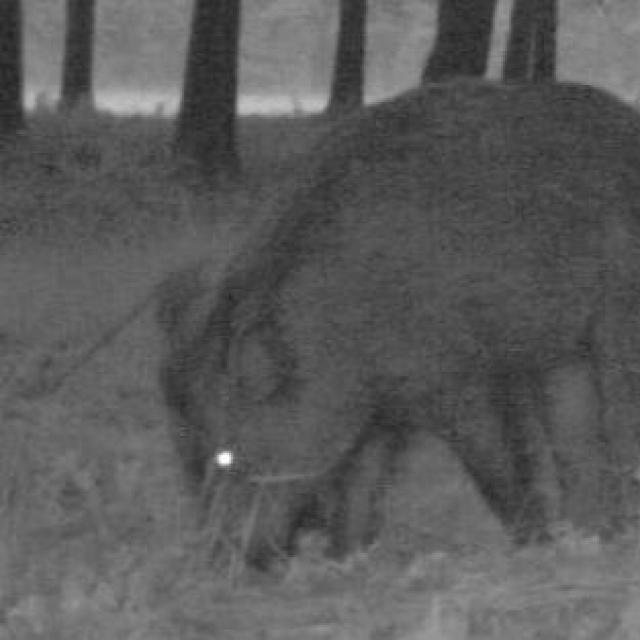pig: (152, 52, 640, 550)
